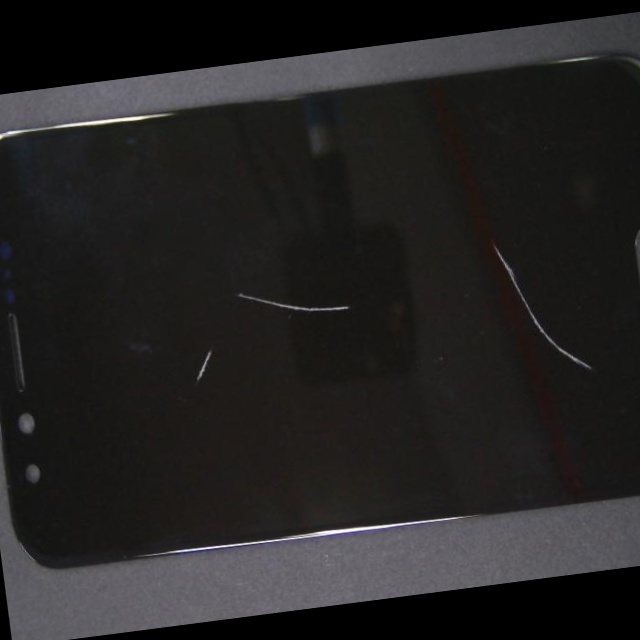scratch: (177, 156, 531, 438), (323, 247, 640, 500), (88, 199, 347, 492)
